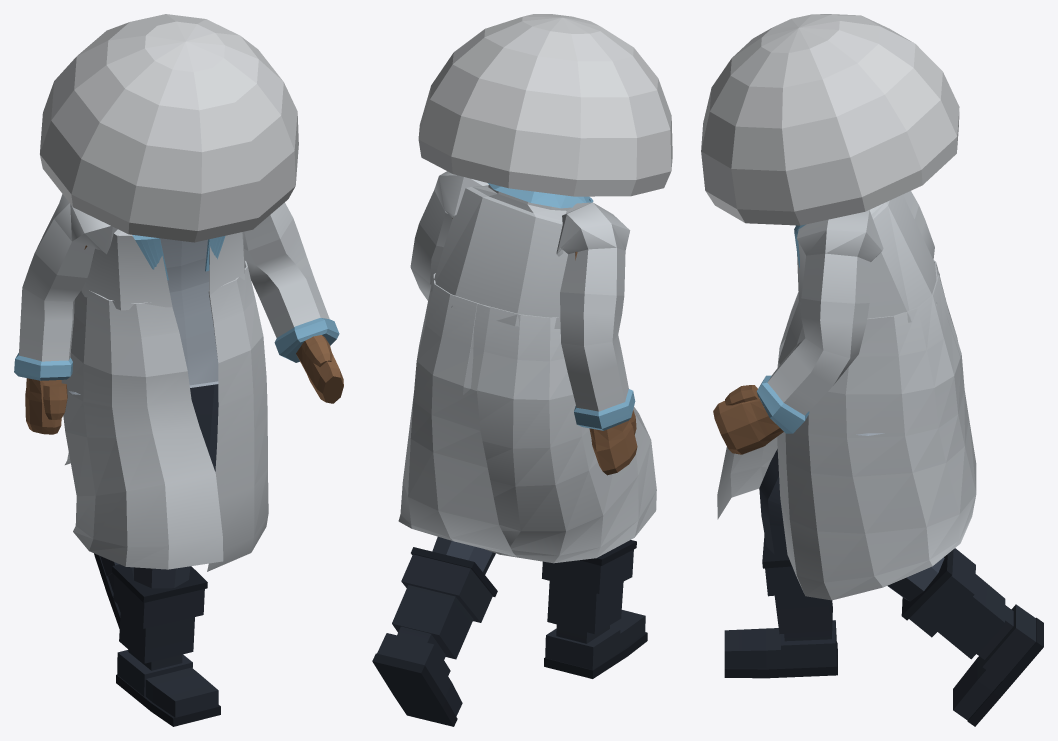
Rendered from city-commuter-52a53f__walk5.glb.
The picture shows the model from 3 angles, left to right: view 1: azimuth 30°, elevation 25°; view 2: azimuth 150°, elevation 25°; view 3: azimuth 270°, elevation 25°; orthographic projection. The views are drawn at different scales.
Parts seen in each view (by area): view 1: city-commuter-52a53f__walk5; view 2: city-commuter-52a53f__walk5; view 3: city-commuter-52a53f__walk5.
Part boxes in pixels (box(x1,y1,x2,y2)): city-commuter-52a53f__walk5: box(14, 14, 343, 726); city-commuter-52a53f__walk5: box(372, 14, 672, 726); city-commuter-52a53f__walk5: box(701, 14, 1043, 726).
Bounding box in the file's own units: 0.7611 × 1.84 × 0.858.
